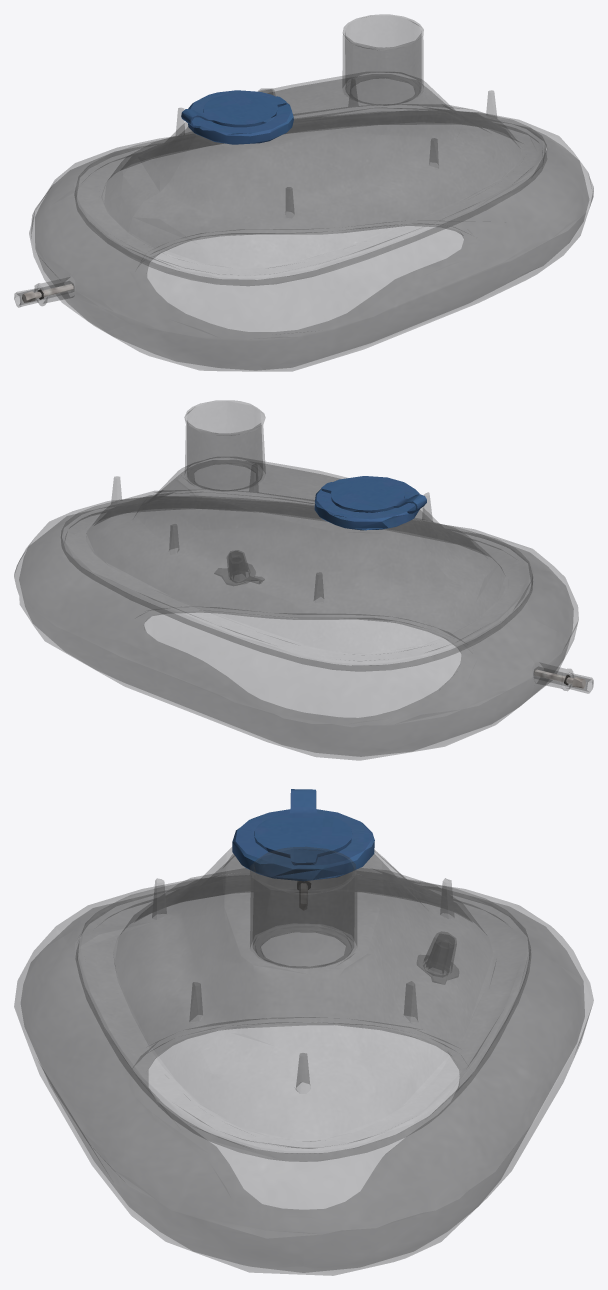
File: item_anesthesia_mask.glb
3 renders of one model, top to bottom at view 1: azimuth 30°, elevation 25°; view 2: azimuth 150°, elevation 25°; view 3: azimuth 270°, elevation 25°, orthographic. The views are drawn at different scales.
Parts seen in each view (by area): view 1: item_anesthesia_mask; view 2: item_anesthesia_mask; view 3: item_anesthesia_mask.
Part boxes in pixels (left/top/right/bottom): item_anesthesia_mask: left=14, top=14, right=593, bottom=371; item_anesthesia_mask: left=14, top=400, right=593, bottom=760; item_anesthesia_mask: left=14, top=789, right=593, bottom=1275.
Bounding box in the file's own units: 0.1303 × 0.0513 × 0.0881.
Materials: 5 (5 with a texture image).
